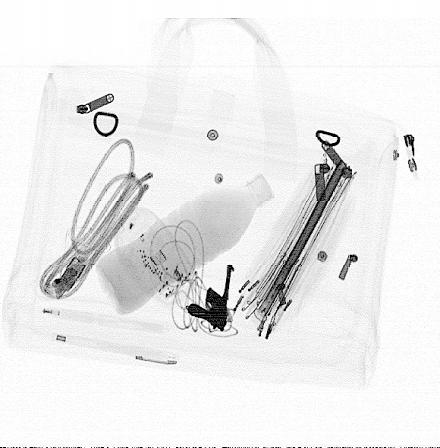Gun: (187, 264, 235, 332)
